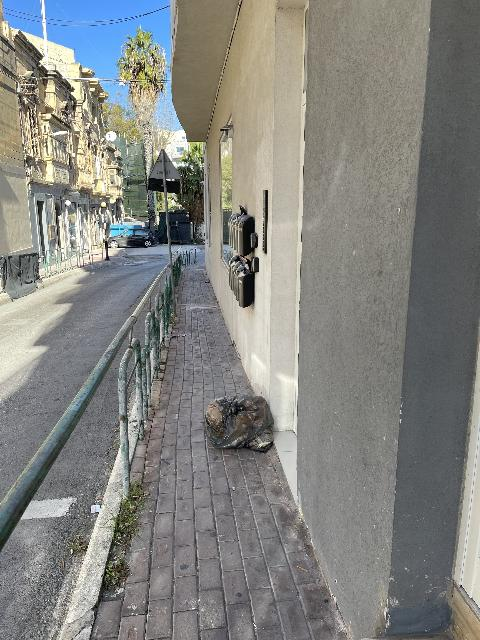Recyclable -Grey-: (203, 395, 273, 451)
